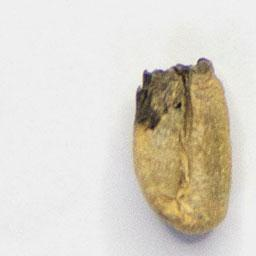defect: (123, 51, 239, 242)
